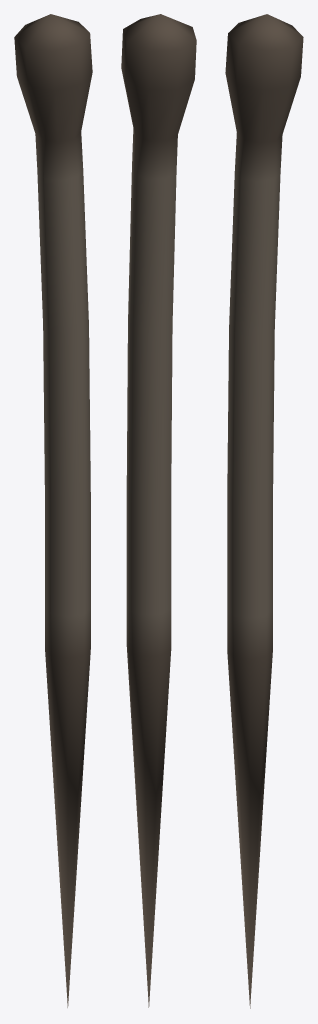
3 views of the same model, side by side, from view 1: azimuth 90°, elevation 25°; view 2: azimuth 210°, elevation 25°; view 3: azimuth 270°, elevation 25° (orthographic).
Visible parts, largest first — view 1: base.733; view 2: base.733; view 3: base.733.
Part boxes in pixels (bbox=[...]): base.733: bbox=[14, 14, 92, 1007]; base.733: bbox=[121, 14, 196, 1007]; base.733: bbox=[225, 14, 303, 1008].
Size of the model in its own units: 0.0347 by 0.5 by 0.0356.
